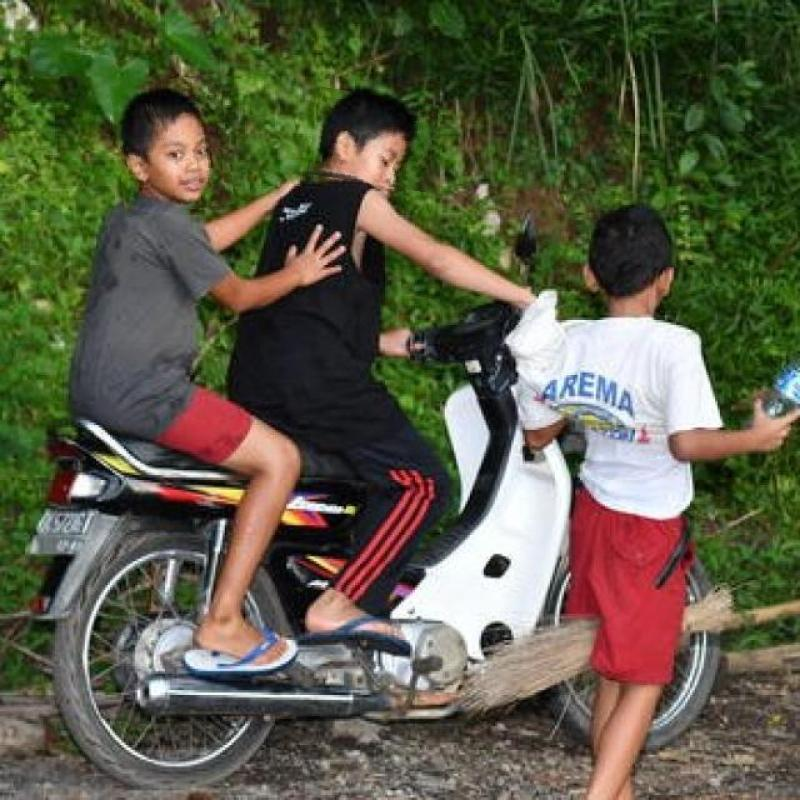nohelmet: (114, 76, 232, 214), (309, 91, 436, 188)
